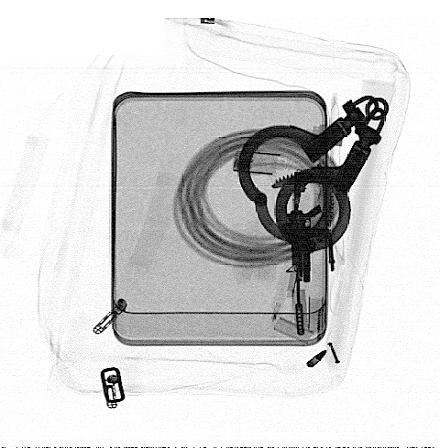Bullet: (306, 349, 328, 368)
Gun: (285, 169, 330, 335)
HandCuffs: (233, 96, 390, 255)
